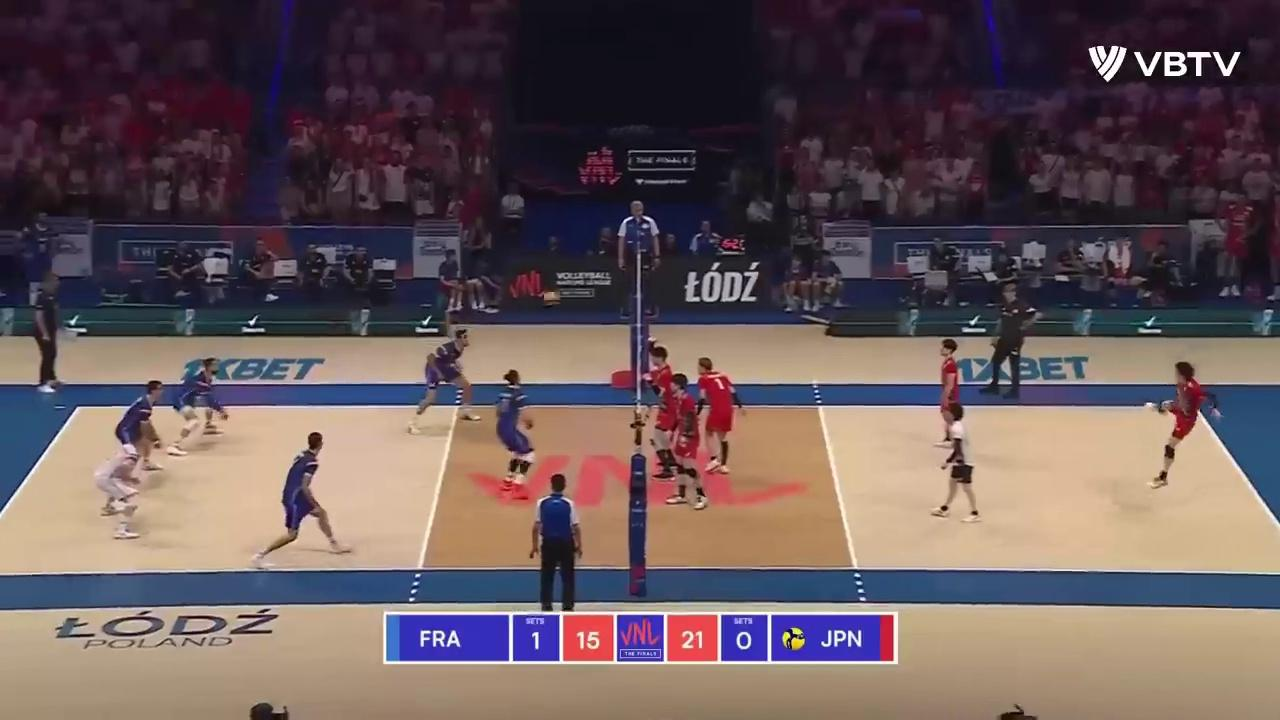ball: (544, 292, 559, 305)
